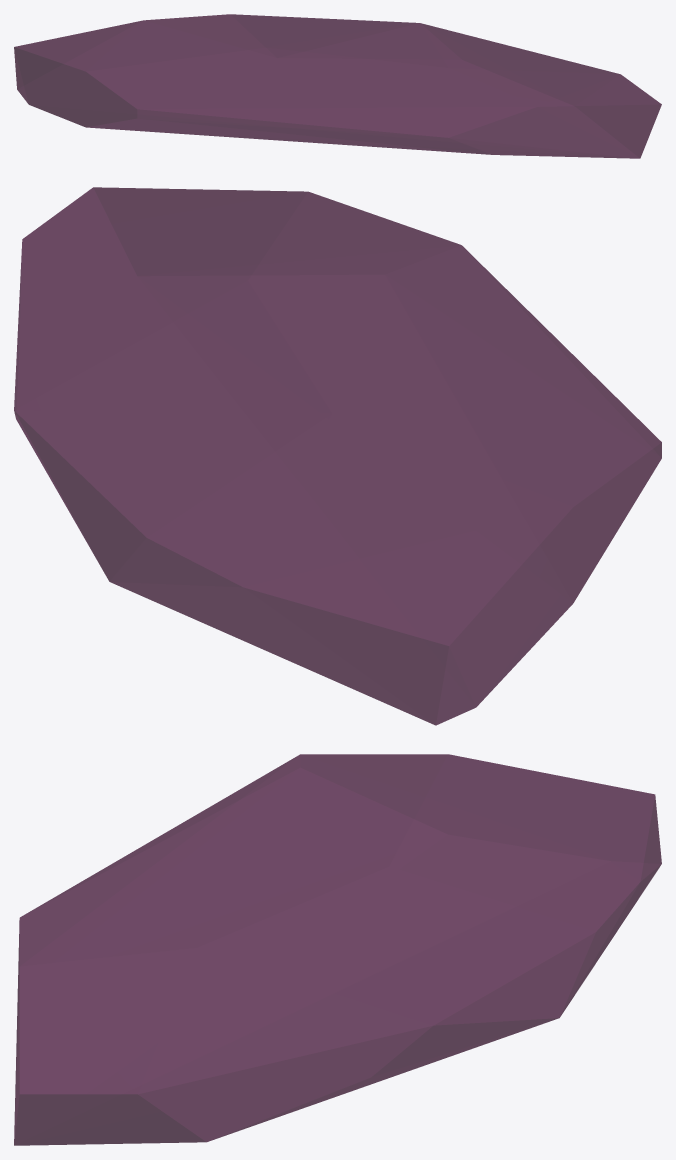
3 renders of one model, top to bottom at view 1: azimuth 30°, elevation 25°; view 2: azimuth 150°, elevation 25°; view 3: azimuth 270°, elevation 25°, orthographic. The views are drawn at different scales.
Parts seen in each view (by area): view 1: Shape_IndexedFaceSet.009_Shape_IndexedFaceSet.16588; view 2: Shape_IndexedFaceSet.009_Shape_IndexedFaceSet.16588; view 3: Shape_IndexedFaceSet.009_Shape_IndexedFaceSet.16588.
Boxes of the visible parts, x1=… form: Shape_IndexedFaceSet.009_Shape_IndexedFaceSet.16588: x1=14, y1=14, x2=661, y2=158; Shape_IndexedFaceSet.009_Shape_IndexedFaceSet.16588: x1=14, y1=187, x2=661, y2=725; Shape_IndexedFaceSet.009_Shape_IndexedFaceSet.16588: x1=14, y1=754, x2=661, y2=1145.
Size of the model in its own units: 0.1897 by 0.0319 by 0.173.
